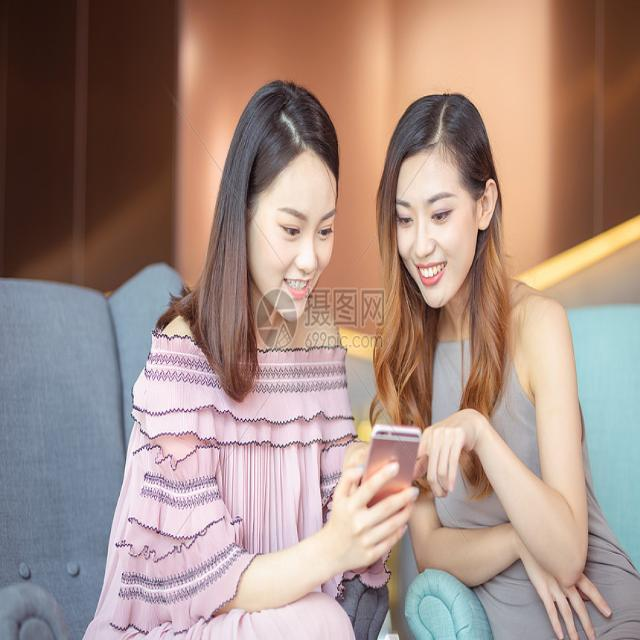phone: (363, 423, 421, 534)
